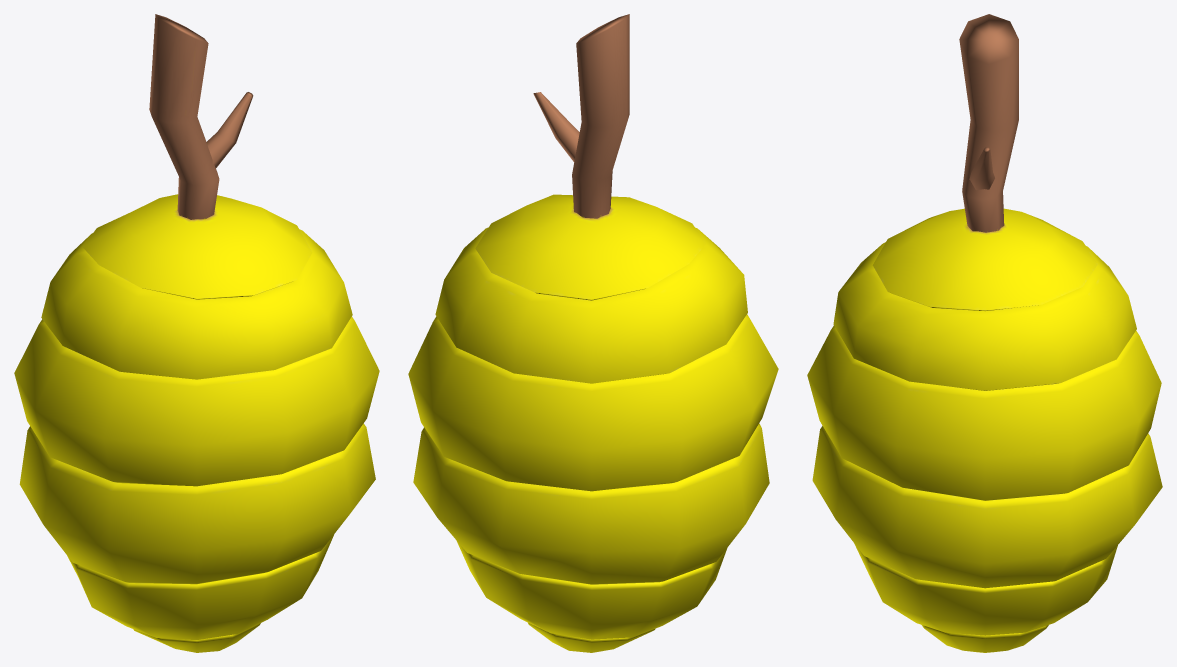
Rendered from bee_hive.glb.
The picture shows the model from 3 angles, left to right: view 1: azimuth 30°, elevation 25°; view 2: azimuth 150°, elevation 25°; view 3: azimuth 270°, elevation 25°; orthographic projection. The views are drawn at different scales.
Parts seen in each view (by area): view 1: node_id36_7, node_id34_6; view 2: node_id36_7, node_id34_6; view 3: node_id36_7, node_id34_6.
Boxes of the visible parts, box(x1,y1,x2,y2) form: node_id36_7: box(14, 194, 379, 652); node_id34_6: box(149, 14, 253, 219); node_id36_7: box(408, 194, 778, 652); node_id34_6: box(533, 14, 629, 218); node_id36_7: box(807, 208, 1162, 652); node_id34_6: box(959, 14, 1018, 232).
Size of the model in its own units: 0.2699 by 0.512 by 0.2662.
2 materials, 2 textured.
